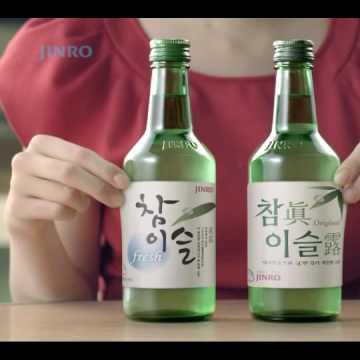soju: (111, 35, 350, 323)
